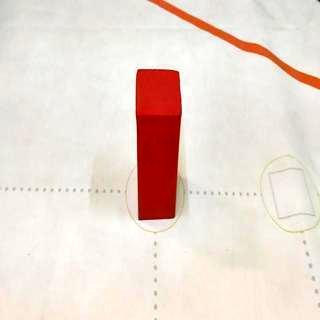redbox: (134, 68, 182, 220)
